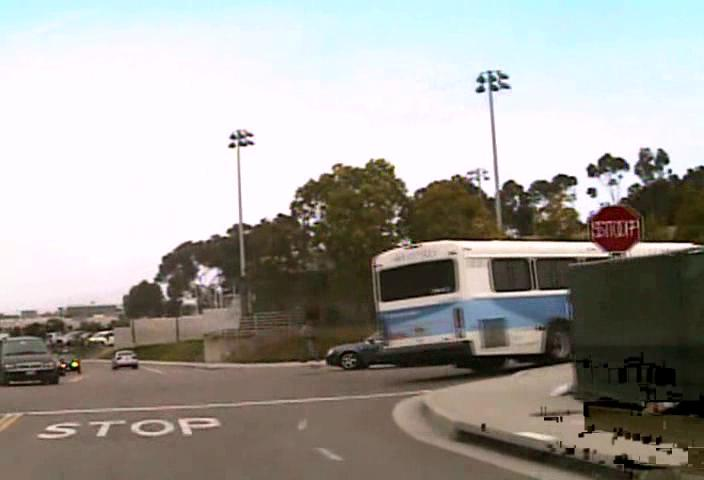stop: (588, 203, 642, 252)
